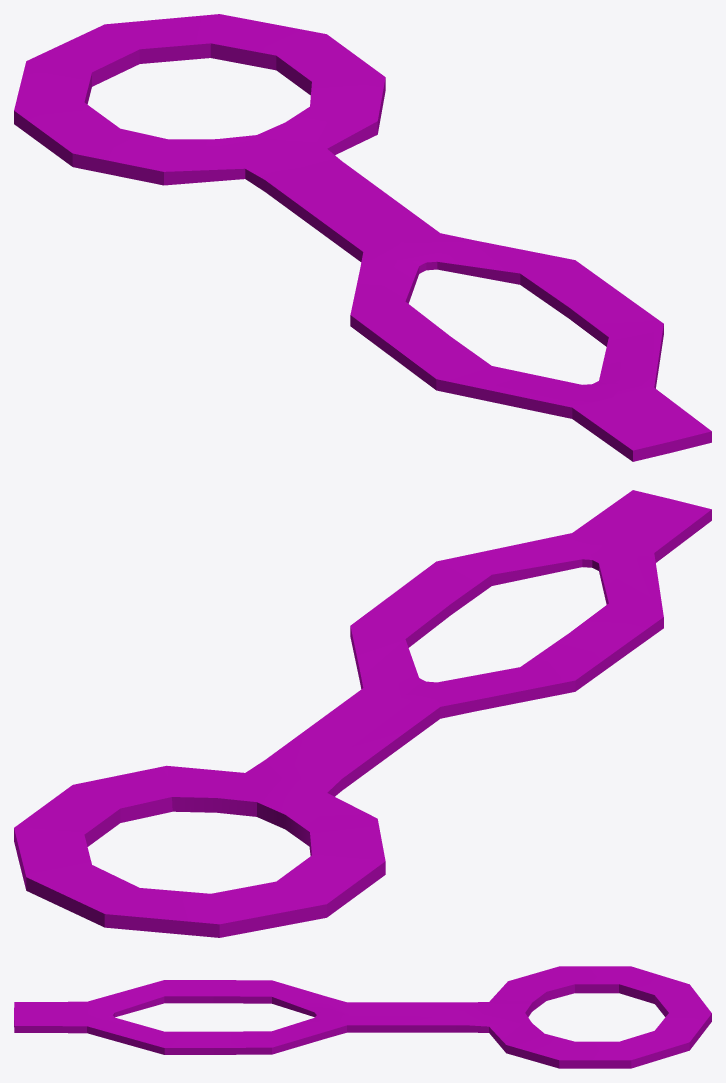
Rendered from road.fbx.
3 renders of one model, top to bottom at view 1: azimuth 30°, elevation 25°; view 2: azimuth 150°, elevation 25°; view 3: azimuth 270°, elevation 25°, orthographic. The views are drawn at different scales.
Visible parts, largest first — view 1: Cylinder; view 2: Cylinder; view 3: Cylinder.
Boxes of the visible parts, left/top/right/bottom form: Cylinder: left=14, top=14, right=711, bottom=461; Cylinder: left=14, top=490, right=711, bottom=937; Cylinder: left=14, top=966, right=711, bottom=1068.
Size of the model in its own units: 39.38 by 1.78 by 124.
